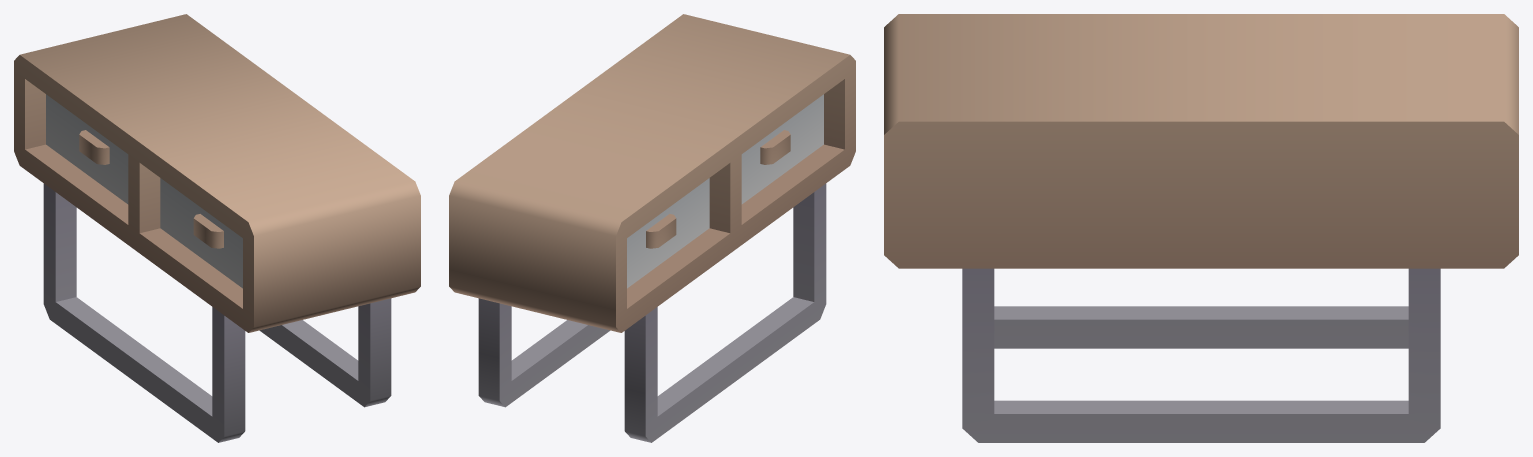
File: sidetable-drawers-frame.glb
3 views of the same model, side by side, from view 1: azimuth 30°, elevation 25°; view 2: azimuth 150°, elevation 25°; view 3: azimuth 270°, elevation 25° (orthographic). The views are drawn at different scales.
Visible parts, largest first — view 1: sidetable-drawers-frame; view 2: sidetable-drawers-frame; view 3: sidetable-drawers-frame.
Boxes of the visible parts, bbox=[...] form: sidetable-drawers-frame: bbox=[14, 14, 420, 442]; sidetable-drawers-frame: bbox=[449, 14, 855, 442]; sidetable-drawers-frame: bbox=[884, 14, 1518, 442].
Bounding box in the file's own units: 0.4 × 0.556 × 0.996.
